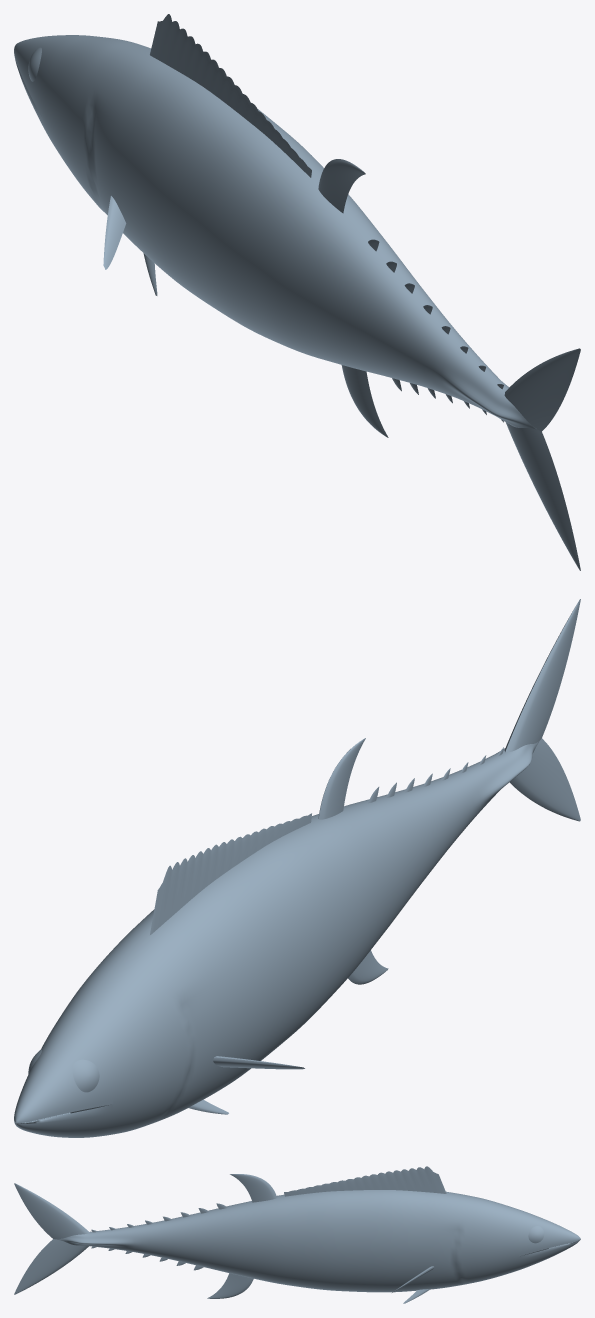
The model's file is pacific_bonito.glb.
3 renders of one model, top to bottom at view 1: azimuth 30°, elevation 25°; view 2: azimuth 150°, elevation 25°; view 3: azimuth 270°, elevation 25°, orthographic. The views are drawn at different scales.
Visible parts, largest first — view 1: pacific_bonito; view 2: pacific_bonito; view 3: pacific_bonito.
Part boxes in pixels (left/top/right/bottom): pacific_bonito: left=14, top=14, right=580, bottom=570; pacific_bonito: left=14, top=599, right=580, bottom=1137; pacific_bonito: left=14, top=1166, right=580, bottom=1303.
Bounding box in the file's own units: 0.1532 × 0.1936 × 0.7494.
